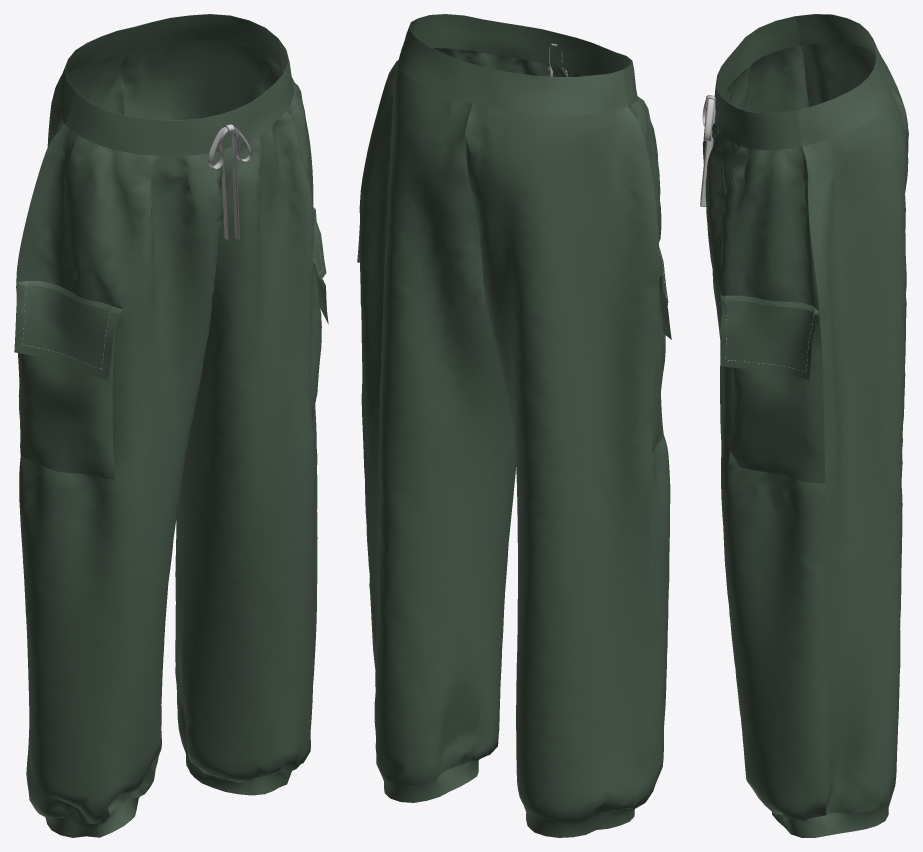
File: FLG_212_12_02_2.fbx
3 views of the same model, side by side, from view 1: azimuth 30°, elevation 25°; view 2: azimuth 150°, elevation 25°; view 3: azimuth 270°, elevation 25° (orthographic). The views are drawn at different scales.
Parts seen in each view (by area): view 1: FLG_212_12_02_2; view 2: FLG_212_12_02_2; view 3: FLG_212_12_02_2.
Part boxes in pixels (x1,y1,x2,y2): FLG_212_12_02_2: (14,14,328,837); FLG_212_12_02_2: (357,14,671,837); FLG_212_12_02_2: (700,14,908,837).
Size of the model in its own units: 47.86 by 110 by 28.56.
